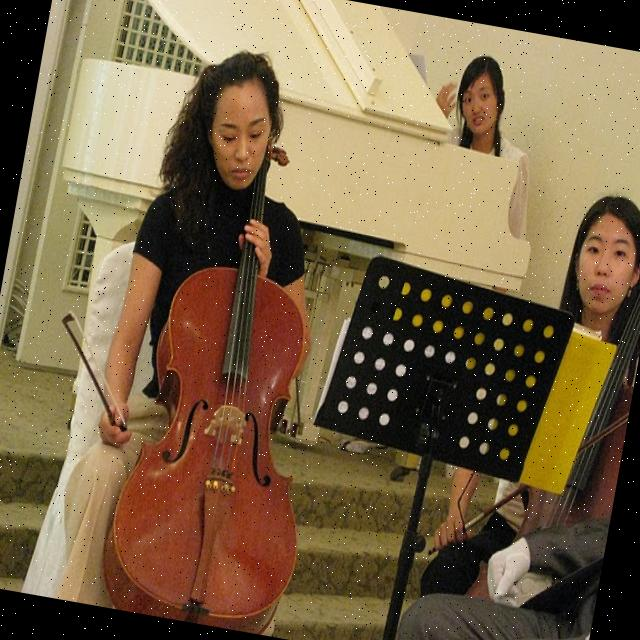cello: (91, 118, 369, 638), (463, 229, 640, 626)
